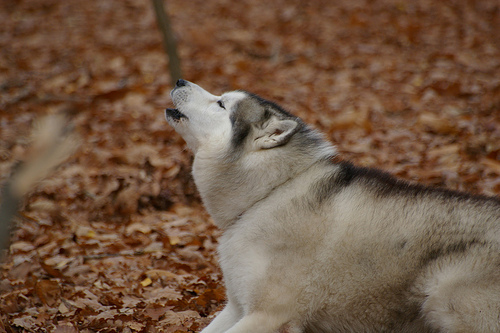dog: (162, 77, 499, 332)
